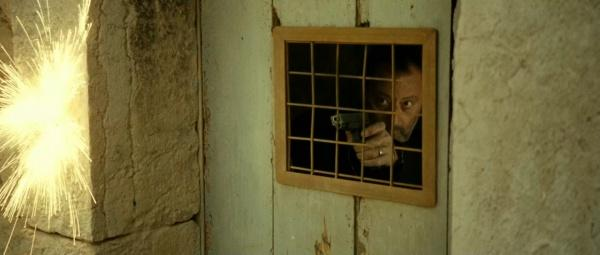Gun: (332, 111, 375, 145)
